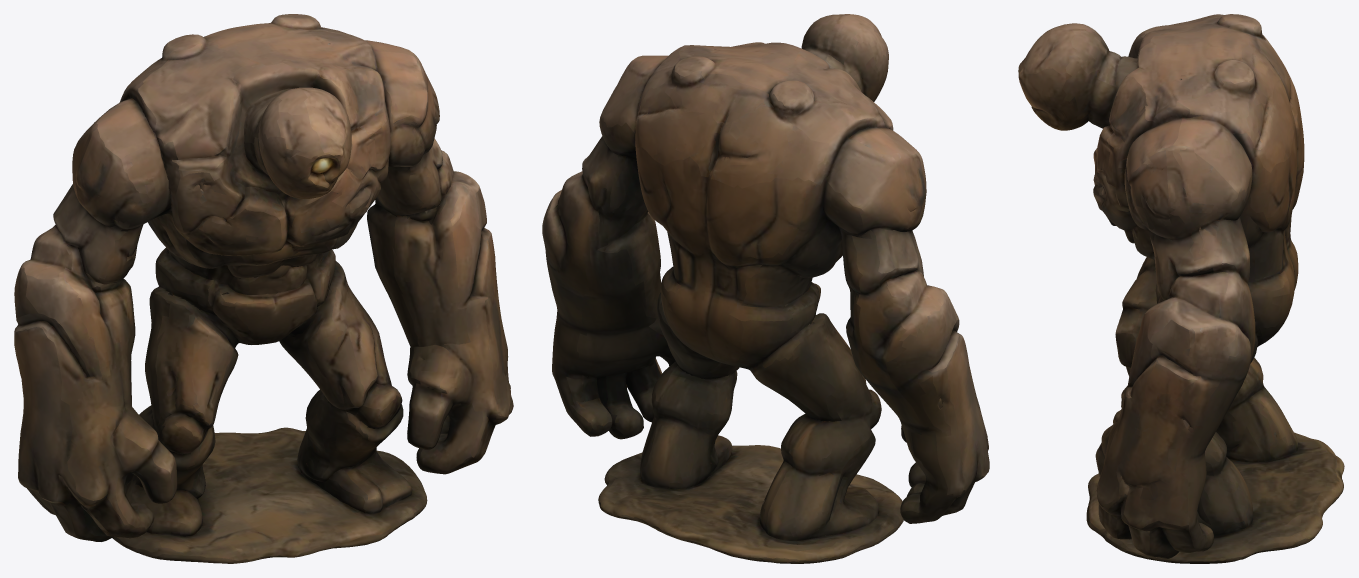
The model's file is cr_colossus.glb.
3 views of the same model, side by side, from view 1: azimuth 30°, elevation 25°; view 2: azimuth 150°, elevation 25°; view 3: azimuth 270°, elevation 25° (orthographic). The views are drawn at different scales.
Visible parts, largest first — view 1: world; view 2: world; view 3: world.
Boxes of the visible parts, box(x1,y1,x2,y2) form: world: box(14, 14, 513, 563); world: box(542, 14, 989, 563); world: box(1018, 14, 1344, 563).
Bounding box in the file's own units: 0.251 × 0.25 × 0.1607.
1 material, 1 textured.
